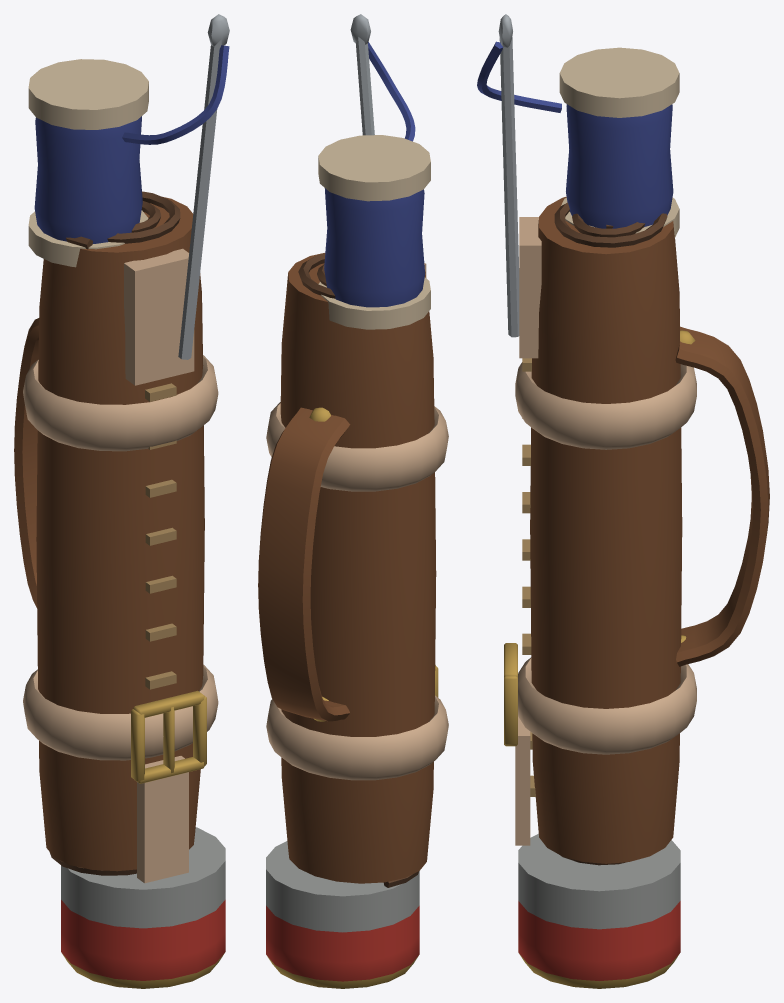
File: tool_patchkit.fbx
3 views of the same model, side by side, from view 1: azimuth 30°, elevation 25°; view 2: azimuth 150°, elevation 25°; view 3: azimuth 270°, elevation 25° (orthographic). The views are drawn at different scales.
Parts seen in each view (by area): view 1: Tool_PatchKit_Roll, Tool_PatchKit_Strap, Tool_PatchKit_Spool, Tool_PatchKit_Tin, Tool_PatchKit_Needle, Tool_PatchKit_BeltLoop; view 2: Tool_PatchKit_Roll, Tool_PatchKit_Spool, Tool_PatchKit_BeltLoop, Tool_PatchKit_Tin, Tool_PatchKit_Strap, Tool_PatchKit_Needle; view 3: Tool_PatchKit_Roll, Tool_PatchKit_Strap, Tool_PatchKit_Tin, Tool_PatchKit_Spool, Tool_PatchKit_BeltLoop, Tool_PatchKit_Needle.
Boxes of the visible parts, <box> form: Tool_PatchKit_Roll: <box>36,191,204,875</box>; Tool_PatchKit_Strap: <box>23,355,218,883</box>; Tool_PatchKit_Spool: <box>28,59,148,267</box>; Tool_PatchKit_Tin: <box>61,827,225,988</box>; Tool_PatchKit_Needle: <box>122,14,229,359</box>; Tool_PatchKit_BeltLoop: <box>14,318,39,608</box>; Tool_PatchKit_Roll: <box>280,253,436,887</box>; Tool_PatchKit_Spool: <box>318,135,430,329</box>; Tool_PatchKit_BeltLoop: <box>258,407,350,721</box>; Tool_PatchKit_Tin: <box>266,841,419,988</box>; Tool_PatchKit_Strap: <box>266,402,448,780</box>; Tool_PatchKit_Needle: <box>350,14,415,141</box>; Tool_PatchKit_Roll: <box>519,196,682,865</box>; Tool_PatchKit_Strap: <box>504,362,696,845</box>; Tool_PatchKit_Tin: <box>518,834,680,988</box>; Tool_PatchKit_Spool: <box>559,47,679,237</box>; Tool_PatchKit_BeltLoop: <box>675,326,769,666</box>; Tool_PatchKit_Needle: <box>477,14,561,337</box>.
Bounding box in the file's own units: 6.02 × 31.83 × 8.71.
